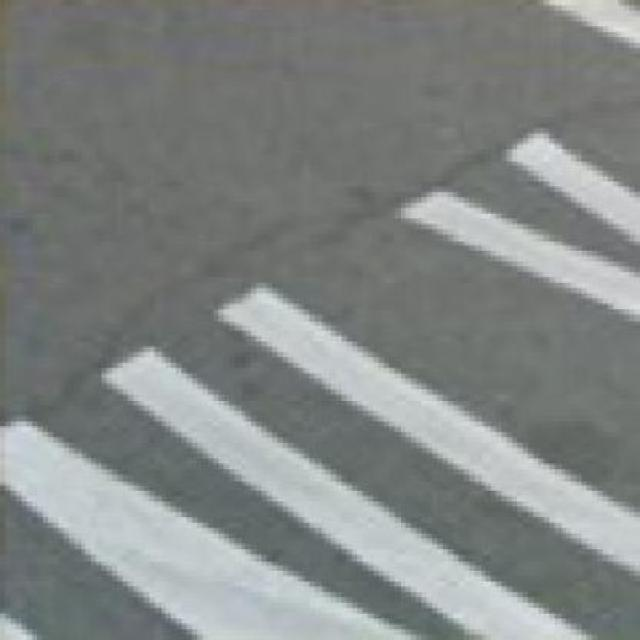crosswalk: (2, 129, 640, 640)
